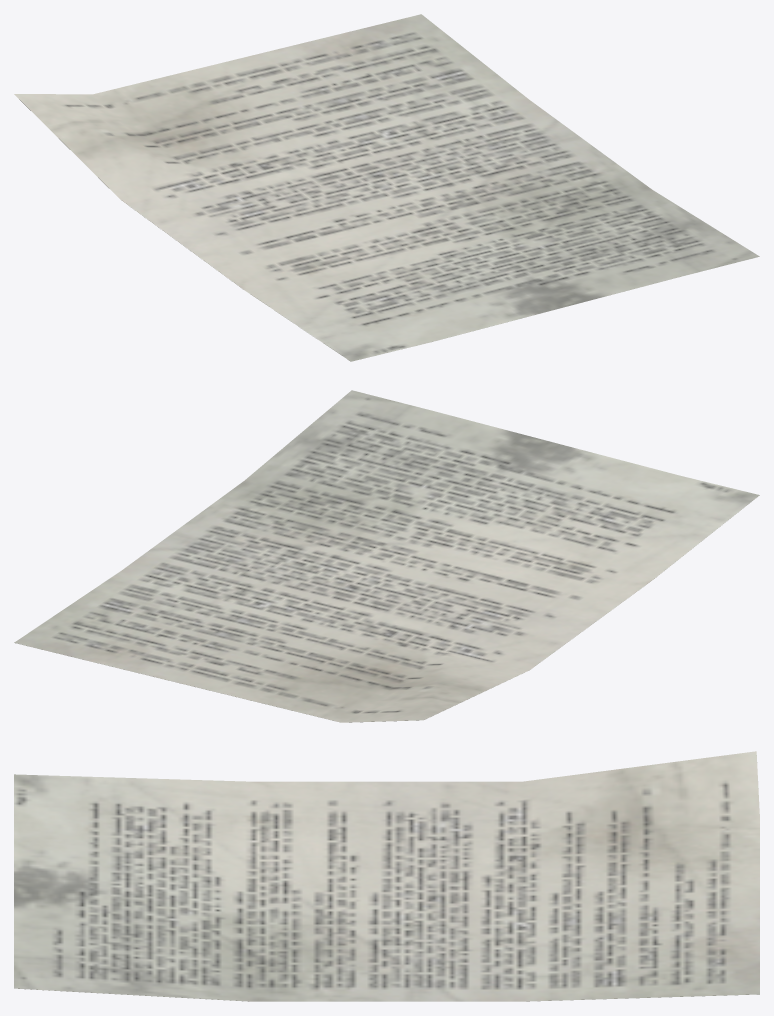
Rendered from Paper_H.obj.
3 renders of one model, top to bottom at view 1: azimuth 30°, elevation 25°; view 2: azimuth 150°, elevation 25°; view 3: azimuth 270°, elevation 25°, orthographic. The views are drawn at different scales.
Parts seen in each view (by area): view 1: Paper_H; view 2: Paper_H; view 3: Paper_H.
Part boxes in pixels (box(x1,y1,x2,y2)): Paper_H: box(14, 14, 759, 361); Paper_H: box(14, 390, 759, 722); Paper_H: box(14, 751, 759, 1001).
Bounding box in the file's own units: 12.35 × 0.8003 × 17.71.
